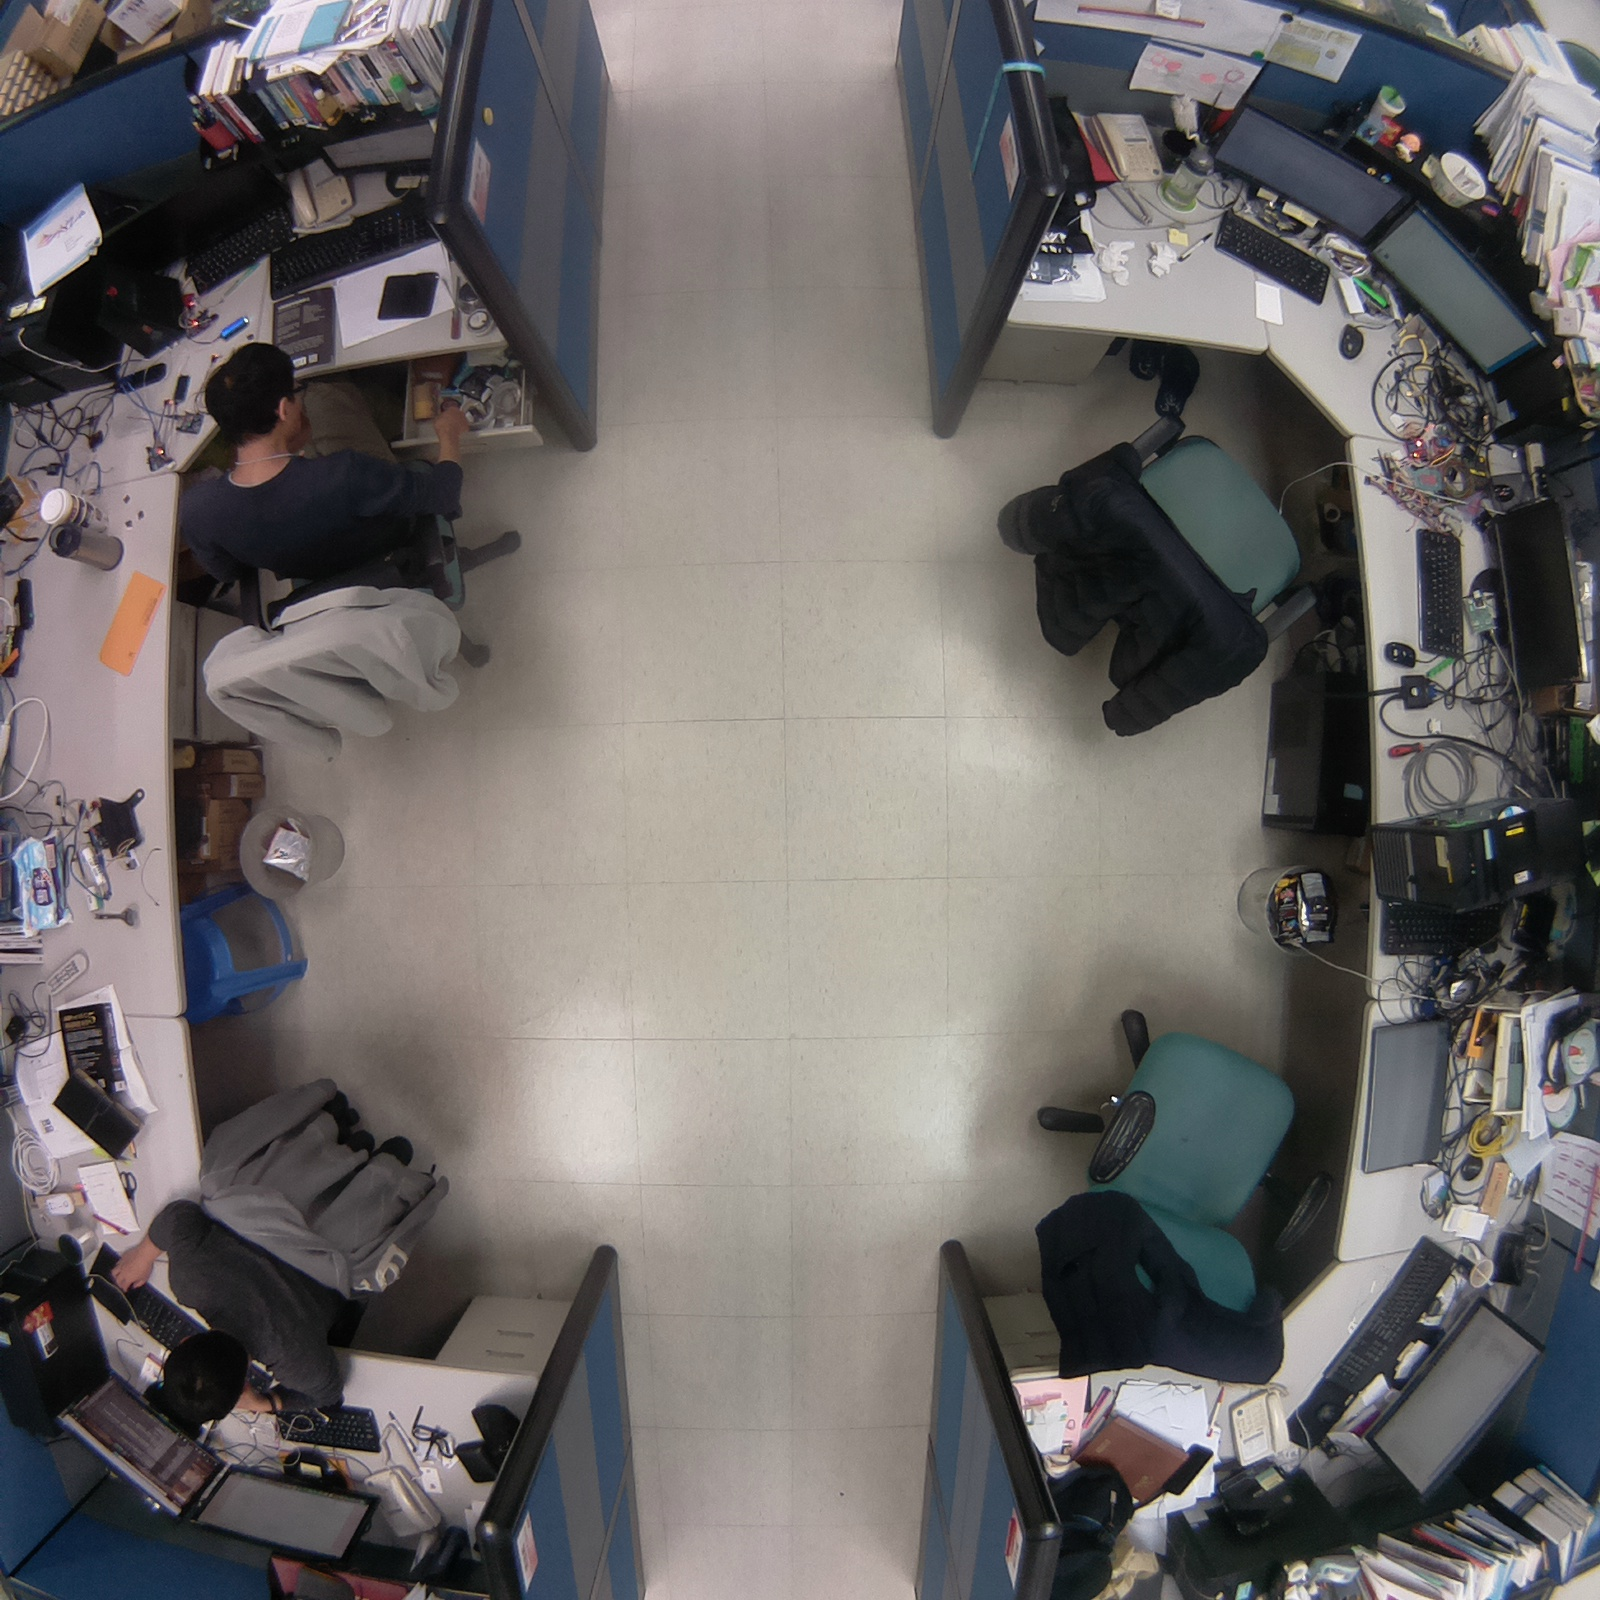chair: (1024, 980, 1330, 1412), (968, 415, 1332, 760)
sitting: (154, 319, 544, 788), (86, 1055, 459, 1458)
